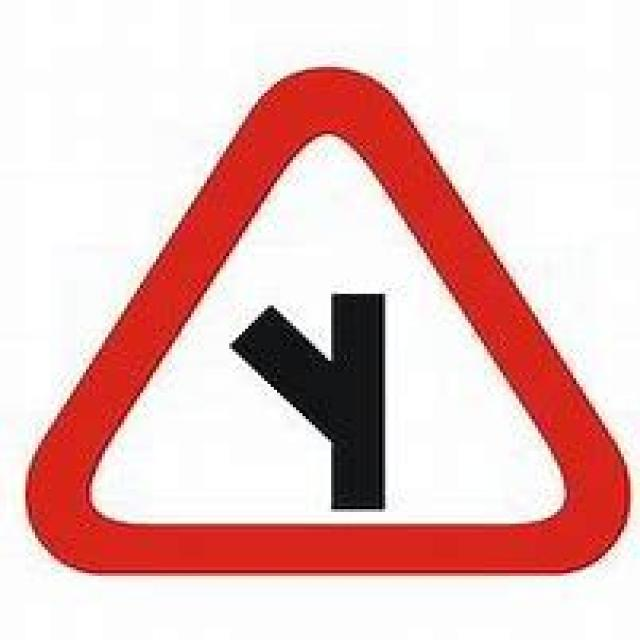Y_INTERSECTION: (17, 30, 640, 605)
